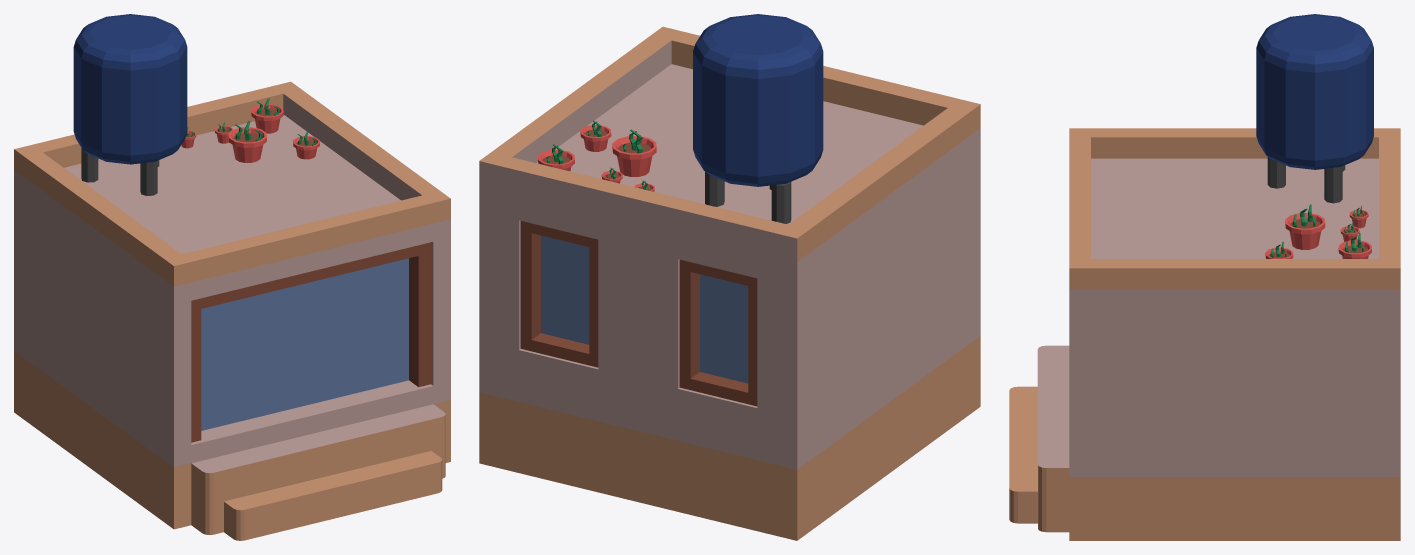
File: building-c.glb
The picture shows the model from 3 angles, left to right: view 1: azimuth 30°, elevation 25°; view 2: azimuth 150°, elevation 25°; view 3: azimuth 270°, elevation 25°; orthographic projection. The views are drawn at different scales.
Parts seen in each view (by area): view 1: building-c; view 2: building-c; view 3: building-c.
Boxes of the visible parts, x1,y1,x2,y2 form: building-c: [14, 14, 450, 540]; building-c: [479, 14, 980, 540]; building-c: [1009, 14, 1400, 540].
Bounding box in the file's own units: 0.9964 × 1.35 × 1.18.
